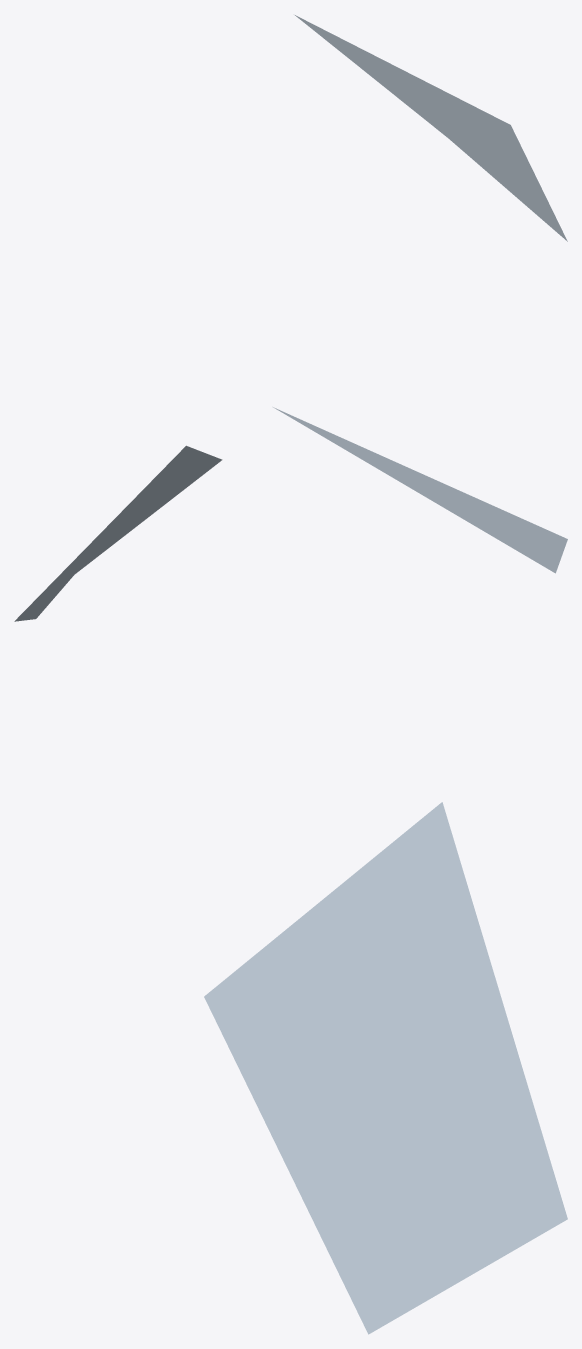
The model's file is plantar-intercuneiform-ligaments-l.glb.
3 renders of one model, top to bottom at view 1: azimuth 30°, elevation 25°; view 2: azimuth 150°, elevation 25°; view 3: azimuth 270°, elevation 25°, orthographic. The views are drawn at different scales.
Parts seen in each view (by area): view 1: Plantar intercuneiform ligaments.l; view 2: Plantar intercuneiform ligaments.l; view 3: Plantar intercuneiform ligaments.l.
Part boxes in pixels (x1,y1,x2,y2): Plantar intercuneiform ligaments.l: (295,15,567,241); Plantar intercuneiform ligaments.l: (14,407,567,621); Plantar intercuneiform ligaments.l: (204,802,567,1334).
Size of the model in its own units: 0.0121 by 0.00526 by 0.00719.
